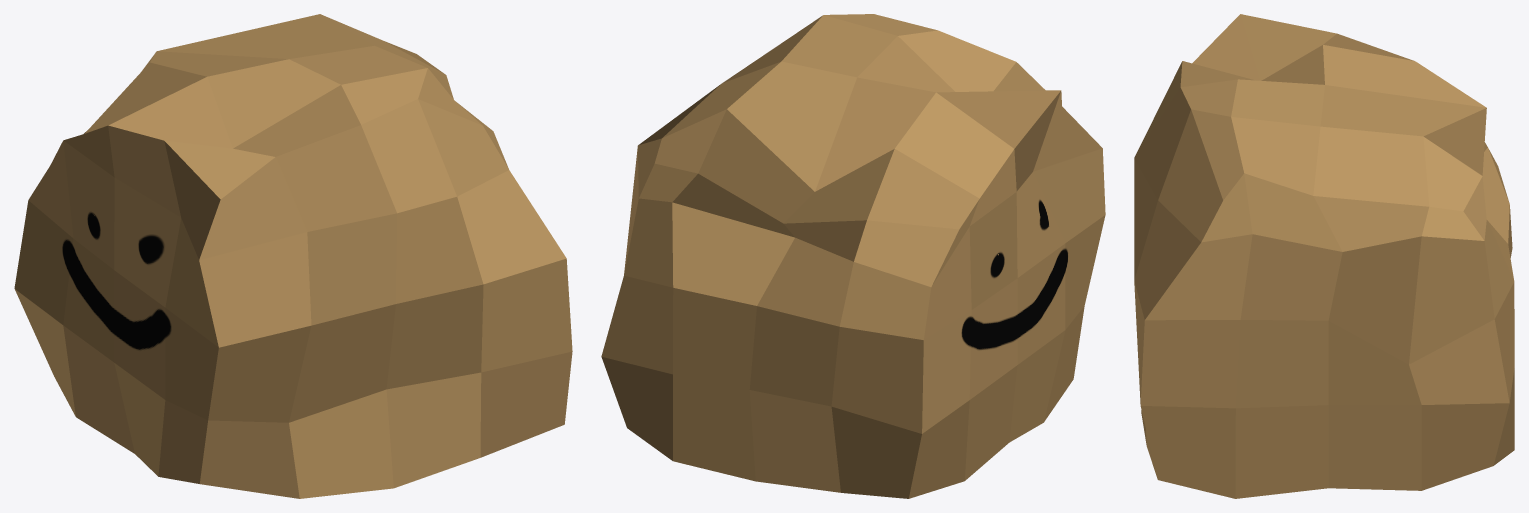
The model's file is starter.glb.
3 views of the same model, side by side, from view 1: azimuth 30°, elevation 25°; view 2: azimuth 150°, elevation 25°; view 3: azimuth 270°, elevation 25° (orthographic). The views are drawn at different scales.
Visible parts, largest first — view 1: Cube; view 2: Cube; view 3: Cube.
Boxes of the visible parts, x1,y1,x2,y2 form: Cube: [14, 14, 572, 498]; Cube: [601, 14, 1105, 498]; Cube: [1134, 14, 1514, 498].
Bounding box in the file's own units: 2.06 × 2 × 2.04.
1 material, 1 textured.
